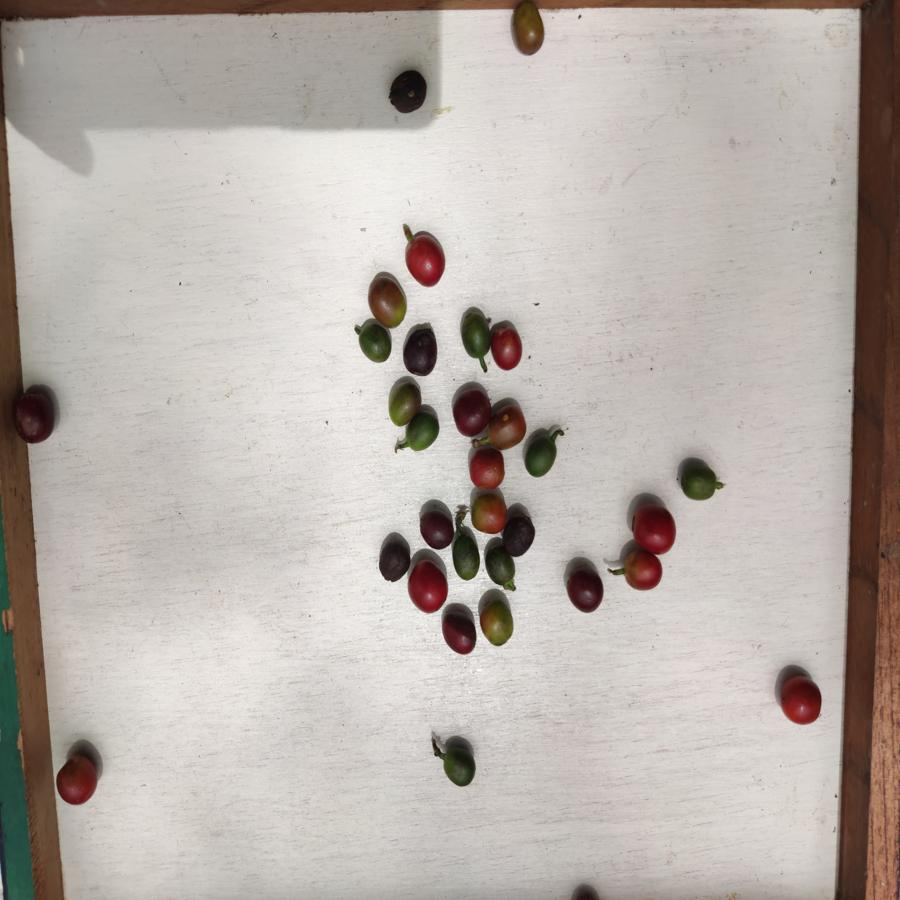Inmaduro: (679, 462, 720, 504), (459, 309, 490, 361), (354, 324, 392, 366), (523, 434, 559, 478), (442, 745, 477, 787), (452, 535, 482, 582), (483, 546, 515, 586), (408, 414, 440, 453)
Maduro: (51, 756, 101, 805), (629, 504, 677, 554), (404, 233, 446, 289), (778, 674, 823, 726), (408, 559, 449, 613), (489, 321, 525, 370), (623, 551, 664, 593), (471, 446, 507, 489)
Pinton: (509, 1, 548, 56), (368, 276, 410, 326), (479, 596, 516, 650), (486, 404, 529, 449), (385, 383, 422, 426), (472, 496, 505, 534)
Sobremaduro: (14, 392, 58, 444), (401, 324, 439, 379), (562, 568, 606, 614), (389, 68, 429, 114), (450, 390, 490, 436), (418, 511, 456, 550), (505, 514, 536, 559), (378, 541, 410, 582)
